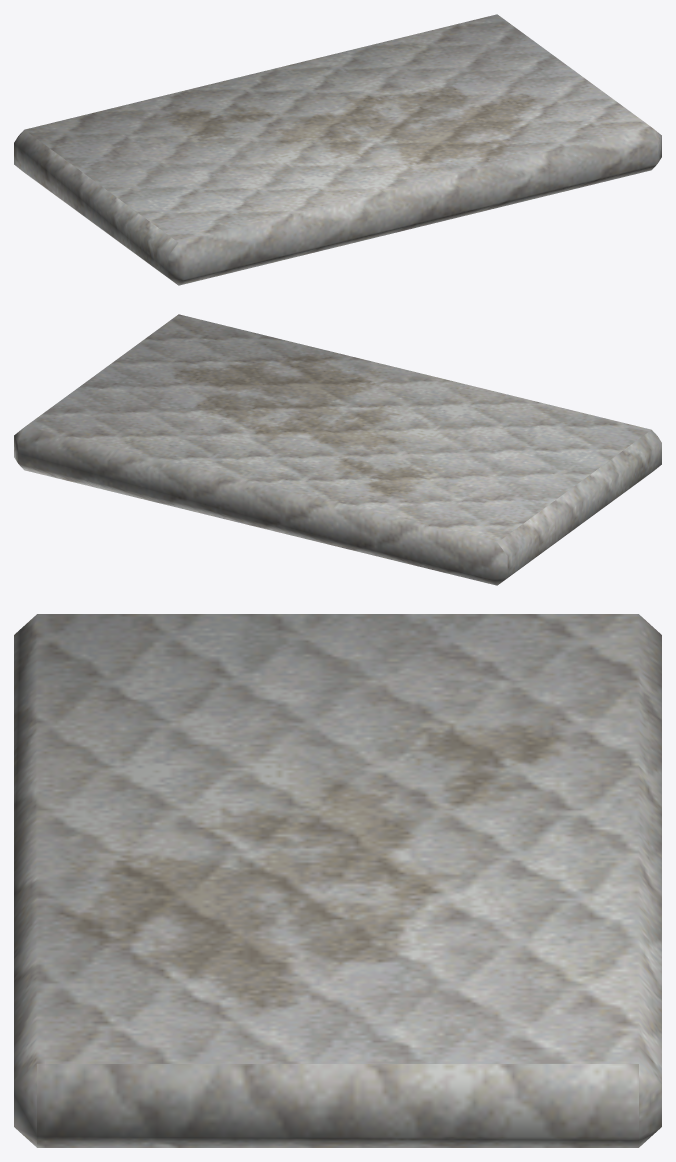
Rendered from mattress.fbx.
3 renders of one model, top to bottom at view 1: azimuth 30°, elevation 25°; view 2: azimuth 150°, elevation 25°; view 3: azimuth 270°, elevation 25°, orthographic. The views are drawn at different scales.
Visible parts, largest first — view 1: Mattress; view 2: Mattress; view 3: Mattress.
Boxes of the visible parts, x1=… form: Mattress: x1=14, y1=14, x2=661, y2=285; Mattress: x1=14, y1=314, x2=661, y2=585; Mattress: x1=14, y1=614, x2=661, y2=1147.
Bounding box in the file's own units: 182 × 15.2 × 106.
